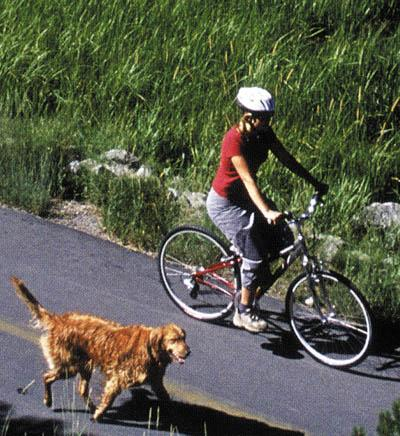person: (207, 85, 331, 339)
